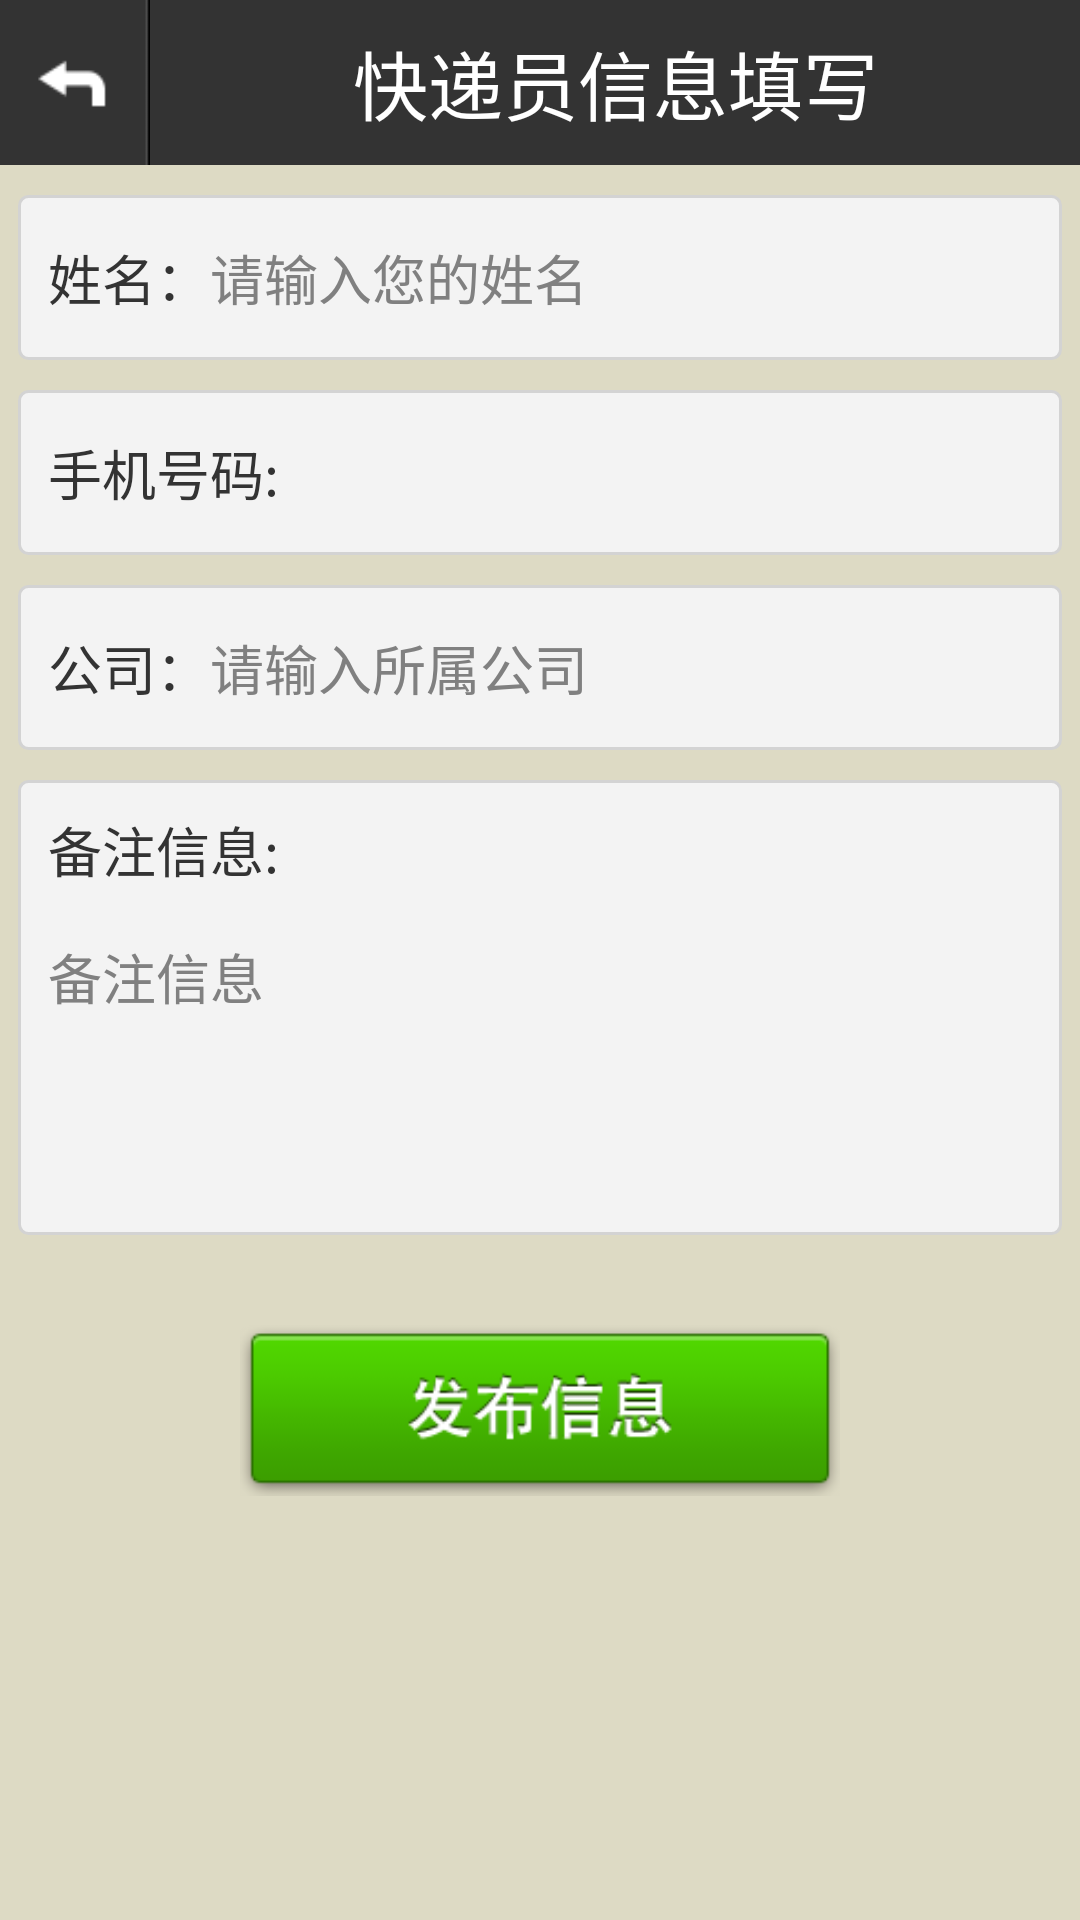

Point at icon controls on the screen. Image size 1080px x 1920px, points as (x,y).
back: (75,82)
